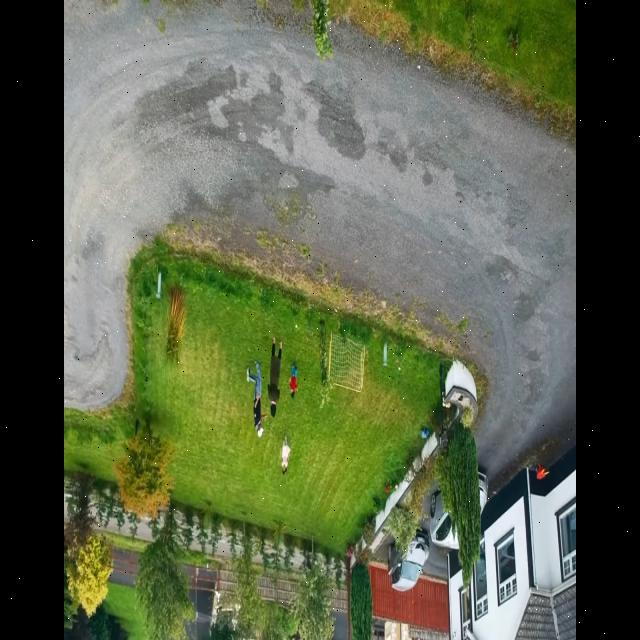humans: (245, 350, 266, 440), (266, 331, 286, 424), (279, 423, 295, 487), (286, 357, 300, 402)
